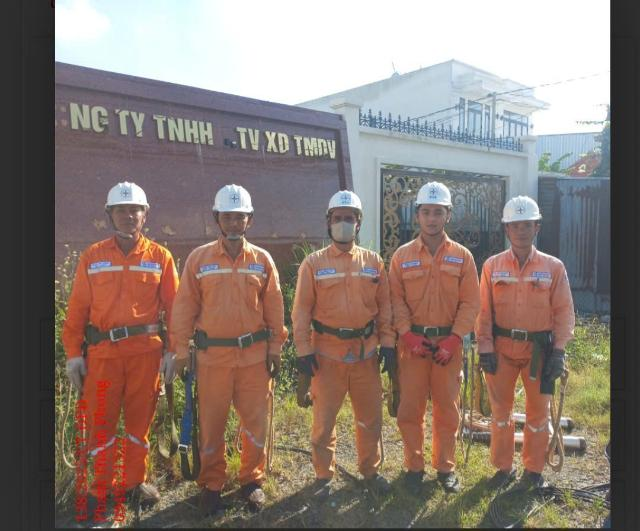gloves: (540, 344, 576, 384), (429, 330, 464, 370), (401, 324, 433, 363), (253, 350, 287, 381), (65, 359, 90, 398), (170, 349, 196, 386), (292, 349, 322, 379), (474, 349, 500, 380), (154, 359, 179, 390), (379, 347, 401, 372)
harness: (89, 318, 181, 350), (305, 309, 382, 347), (187, 319, 279, 348), (486, 317, 557, 347), (402, 312, 460, 344)
helmet: (496, 193, 545, 230), (410, 176, 456, 215), (211, 181, 259, 218), (104, 181, 156, 215), (321, 183, 367, 219)
shoes: (304, 470, 333, 510), (239, 478, 272, 513), (433, 469, 465, 499), (133, 479, 167, 507), (356, 475, 397, 498), (207, 476, 230, 516), (399, 466, 426, 499)
